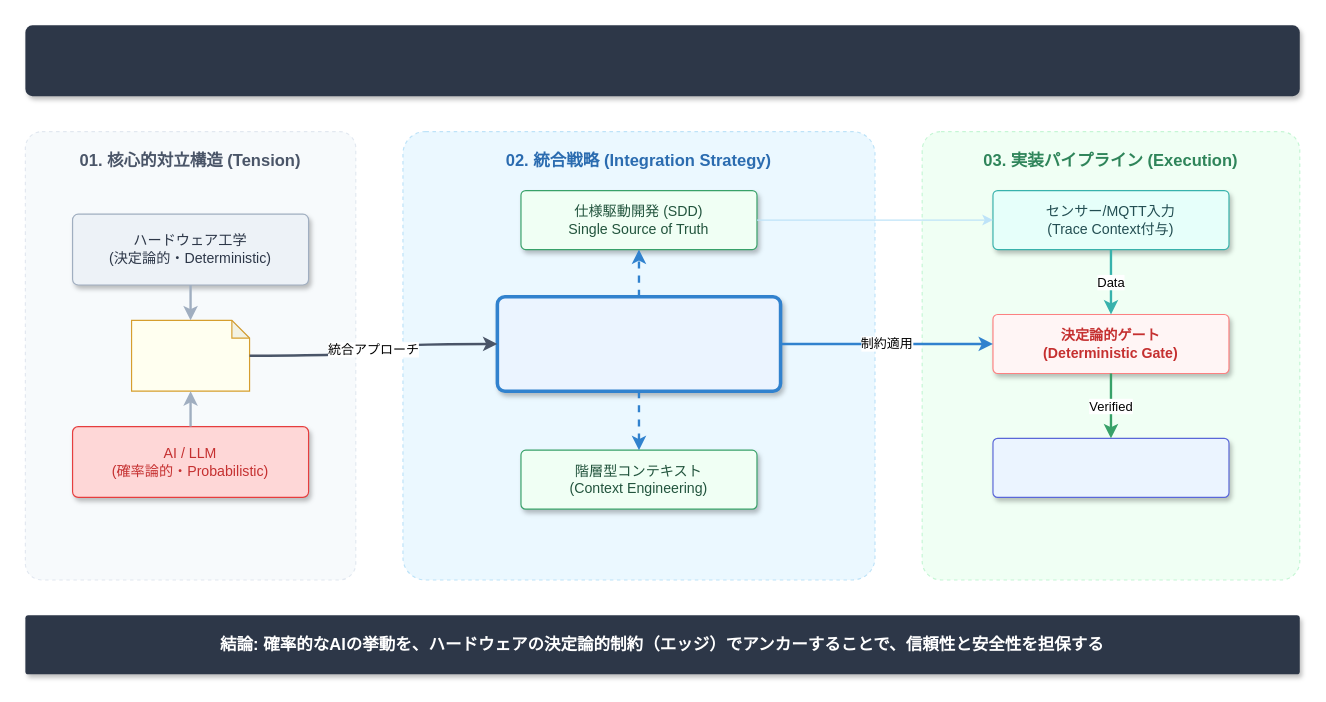
Some shapes in this 1326 by 702 pixel diagram are drawn without their labels. The shapes that lost their labels are listed below. From the top down, each one's centre as x and y in pixels, then its label:
At point 663,62: "AIツール開発成功パイプライン：フルスタックエンジニア視点".
At point 190,355: "概念の不一致 (Integrity Risk)".
At point 639,345: "エッジファースト設計 (Edge-First Design)".
At point 1111,469: "信頼されたUI/Actuation (Verified Output)".
